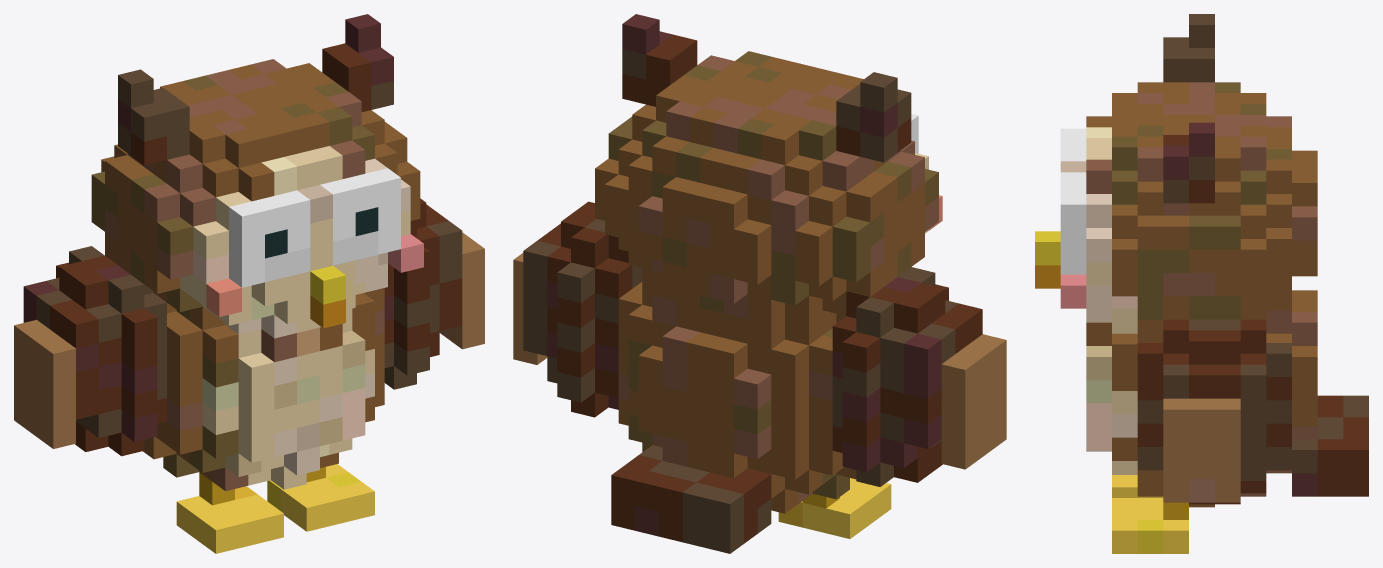
File: echowl.glb
The picture shows the model from 3 angles, left to right: view 1: azimuth 30°, elevation 25°; view 2: azimuth 150°, elevation 25°; view 3: azimuth 270°, elevation 25°; orthographic projection. The views are drawn at different scales.
Parts seen in each view (by area): view 1: beast_echowl; view 2: beast_echowl; view 3: beast_echowl.
Part boxes in pixels (box(x1,y1,x2,y2)): beast_echowl: box(14, 14, 484, 553); beast_echowl: box(513, 14, 1006, 553); beast_echowl: box(1035, 14, 1368, 553).
Bounding box in the file's own units: 1 × 1 × 0.6842.
